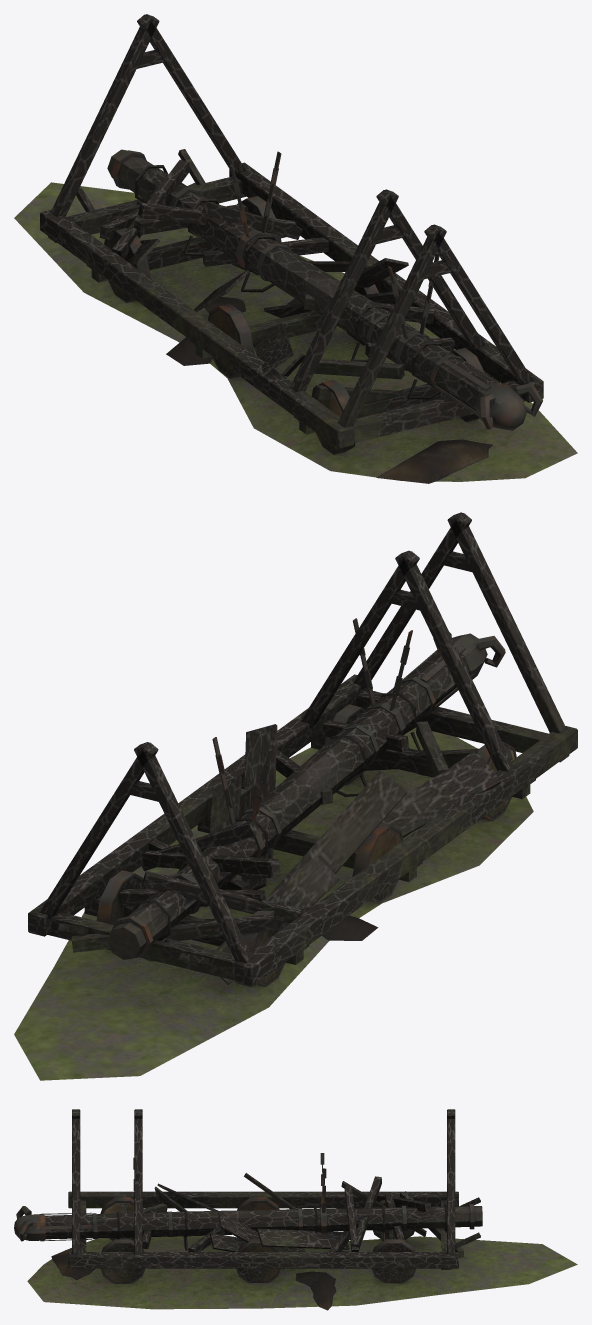
File: ram_burnt.glb
The picture shows the model from 3 angles, top to bottom: view 1: azimuth 30°, elevation 25°; view 2: azimuth 150°, elevation 25°; view 3: azimuth 270°, elevation 25°; orthographic projection. The views are drawn at different scales.
Parts seen in each view (by area): view 1: body_LOD0; view 2: body_LOD0; view 3: body_LOD0.
Part boxes in pixels (x1,y1,x2,y2): body_LOD0: (14,14,577,483); body_LOD0: (14,512,577,1080); body_LOD0: (14,1109,577,1310).
Size of what is drawn, in the model's own units: 3.61 by 3.28 by 10.82.
1 material, 1 textured.
